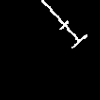double_crochet: (42, 0, 86, 47)
